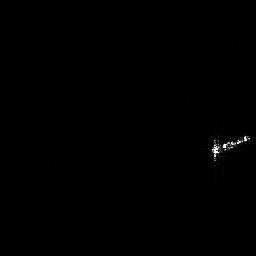ship: (210, 134, 249, 155)
